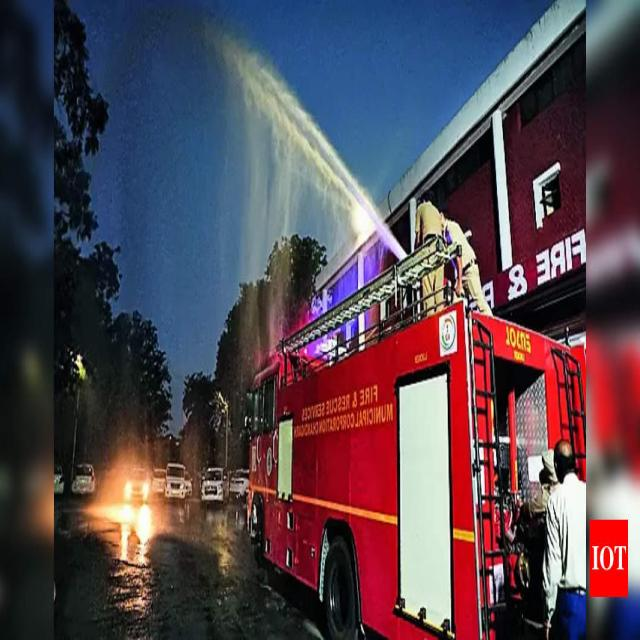car: (201, 467, 229, 504), (165, 463, 186, 499)
emergency: (245, 237, 585, 639)
